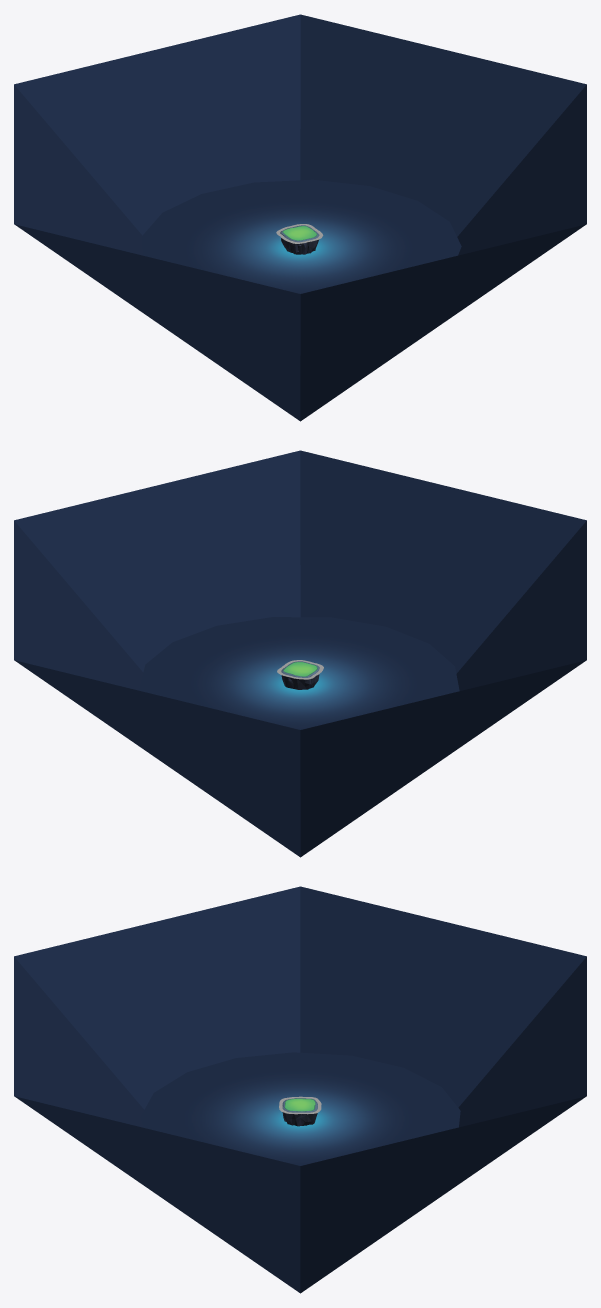
File: Common_Island.fbx
3 views of the same model, one above another, from view 1: azimuth 30°, elevation 25°; view 2: azimuth 150°, elevation 25°; view 3: azimuth 270°, elevation 25° (orthographic).
Parts seen in each view (by area): view 1: Sea_Island_02, Sea_Island_01; view 2: Sea_Island_02, Sea_Island_01; view 3: Sea_Island_02, Sea_Island_01.
Boxes of the visible parts, bbox=[...] form: Sea_Island_02: bbox=[14, 14, 586, 421]; Sea_Island_01: bbox=[142, 179, 461, 293]; Sea_Island_02: bbox=[14, 450, 586, 857]; Sea_Island_01: bbox=[139, 617, 459, 729]; Sea_Island_02: bbox=[14, 886, 586, 1293]; Sea_Island_01: bbox=[140, 1052, 460, 1165].
Bounding box in the file's own units: 2.51 × 1.12 × 2.17.
